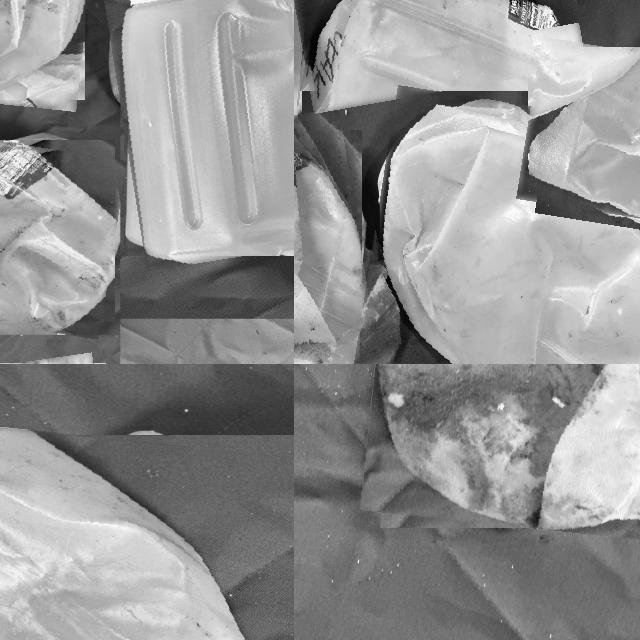milk-jug: (362, 94, 640, 364), (0, 421, 294, 640), (114, 0, 294, 262), (369, 364, 640, 534), (295, 0, 581, 101), (0, 130, 121, 329), (522, 40, 640, 215), (294, 118, 371, 364), (0, 0, 89, 105)
